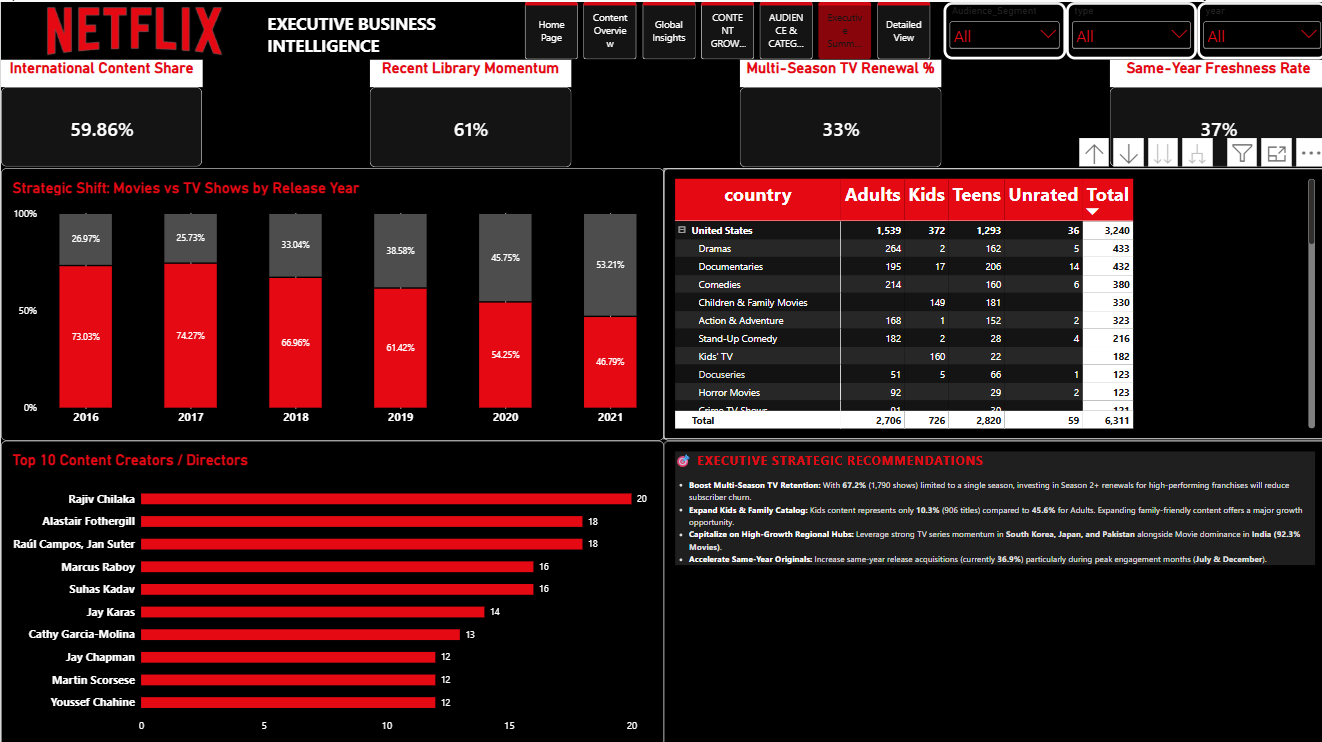

The dashboard page shown, as its layout file describes it:
{"tool":"powerbi","page":{"name":"Executive Summary","canvas":[1920,1080],"ordinal":5},"visuals":[{"type":"image","box":[0,0,386.1,83.5],"z":0},{"type":"textbox","box":[385.8,14.5,387.6,68.8],"z":1000},{"type":"pageNavigator","box":[758.9,0,592.3,83.3],"z":2000},{"type":"slicer","title":"Type","fields":{"Values":["Fact_Netflix_Titles.Audience_Segment"]},"box":[1364.9,0,177.4,83.5],"z":3000},{"type":"slicer","title":"Type","fields":{"Values":["Fact_Netflix_Titles.type"]},"box":[1542.3,0,189.9,83.5],"z":4000},{"type":"slicer","title":"Type","fields":{"Values":["Dim_Date.year"]},"box":[1732.2,0,187.8,83.5],"z":5000},{"type":"cardVisual","title":"International Content Share","fields":{"Data":["🎉 Measures.International Content %"]},"box":[0,83.3,291.6,155.8],"z":6000},{"type":"cardVisual","title":"Recent Library Momentum","fields":{"Data":["🎉 Measures.Recent 3Y Expansion %"]},"box":[534.7,83.3,292,156],"z":7000},{"type":"cardVisual","title":"Multi-Season TV Renewal %","fields":{"Data":["🎉 Measures.Multi-Season TV %"]},"box":[1069.8,83.3,292,156],"z":8000},{"type":"cardVisual","title":"Same-Year Freshness Rate","fields":{"Data":["🎉 Measures.New Releases Share %"]},"box":[1604.8,83.3,315.2,155.8],"z":9000},{"type":"hundredPercentStackedColumnChart","title":"Strategic Shift: Movies vs TV Shows by Release Year","fields":{"Category":["Fact_Netflix_Titles.release_year","Fact_Netflix_Titles.Audience_Segments"],"Series":["Fact_Netflix_Titles.type"],"Y":["🎉 Measures.Total Titles"]},"box":[0,240.7,960,394.4],"z":10000},{"type":"pivotTable","fields":{"Columns":["Fact_Netflix_Titles.Audience_Segments"],"Rows":["Countries.country","Fact_Netflix_Titles.Primary_Genre"],"Values":["🎉 Measures.Titles by Country"]},"box":[960,240,960,394],"z":11000},{"type":"clusteredBarChart","title":"Top 10 Content Creators / Directors","fields":{"Category":["Fact_Netflix_Titles.director"],"Y":["🎉 Measures.Top 10 Directors Titles"]},"box":[0,634.4,960,444.5],"z":12000},{"type":"htmlContent443BE3AD55E043BF878BED274D3A6855","fields":{"content":["Audience rate.Executive Strategic Recommendations"]},"box":[960,634.4,960,444.5],"z":13000}]}

Visuals, with their boxes in screenshot pixels (x1, y1, x2, y2), scaled from the page's 1920x1080 canvas onto the 1322x742 screenshot:
image: [0,0,266,57]
textbox: [266,10,533,57]
pageNavigator: [523,0,930,57]
"Type" slicer: [940,0,1062,57]
"Type" slicer: [1062,0,1193,57]
"Type" slicer: [1193,0,1321,57]
"International Content Share" cardVisual: [0,57,201,164]
"Recent Library Momentum" cardVisual: [368,57,569,164]
"Multi-Season TV Renewal %" cardVisual: [737,57,938,164]
"Same-Year Freshness Rate" cardVisual: [1105,57,1321,164]
"Strategic Shift: Movies vs TV Shows by Release Year" hundredPercentStackedColumnChart: [0,165,661,436]
pivotTable - Fact_Netflix_Titles.Audience_Segments x Countries.country: [661,165,1321,436]
"Top 10 Content Creators / Directors" clusteredBarChart: [0,436,661,741]
htmlContent443BE3AD55E043BF878BED274D3A6855 - Audience rate.Executive Strategic Recommendations: [661,436,1321,741]
